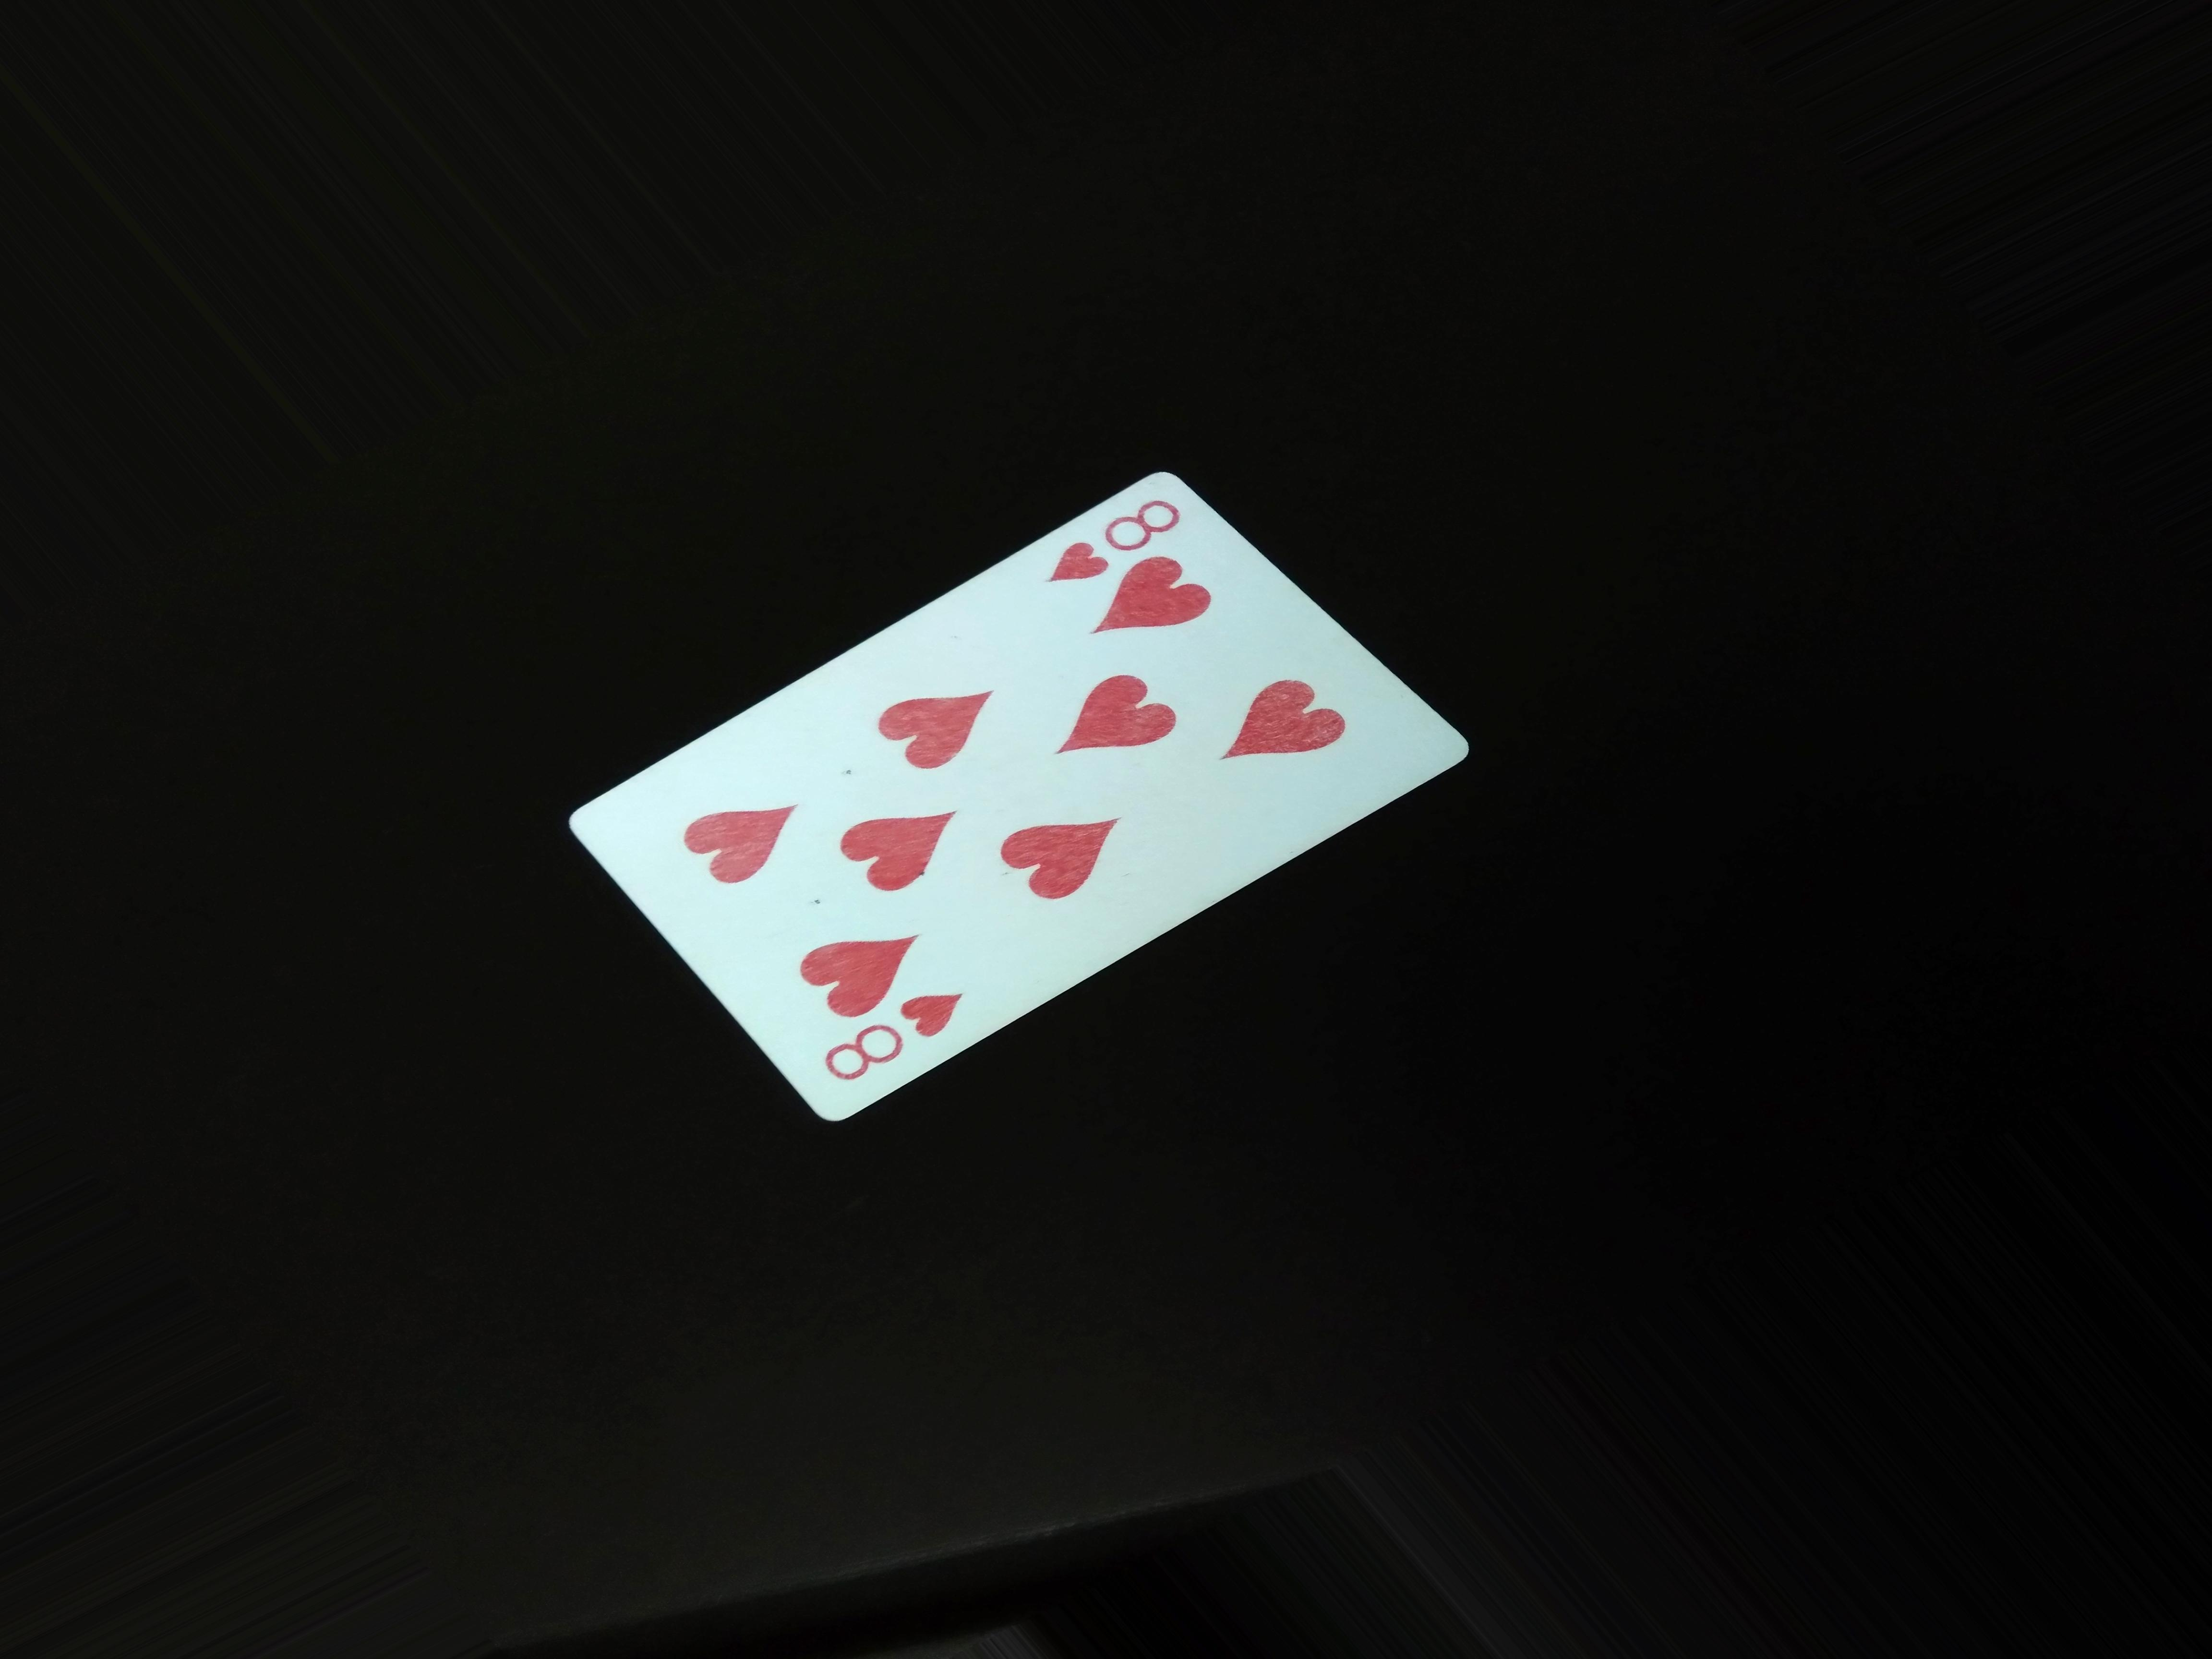8H: (1042, 467, 1179, 606)
